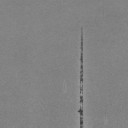slag inclusion: (78, 108, 83, 128), (80, 52, 83, 82), (80, 36, 83, 51), (80, 96, 83, 103)
